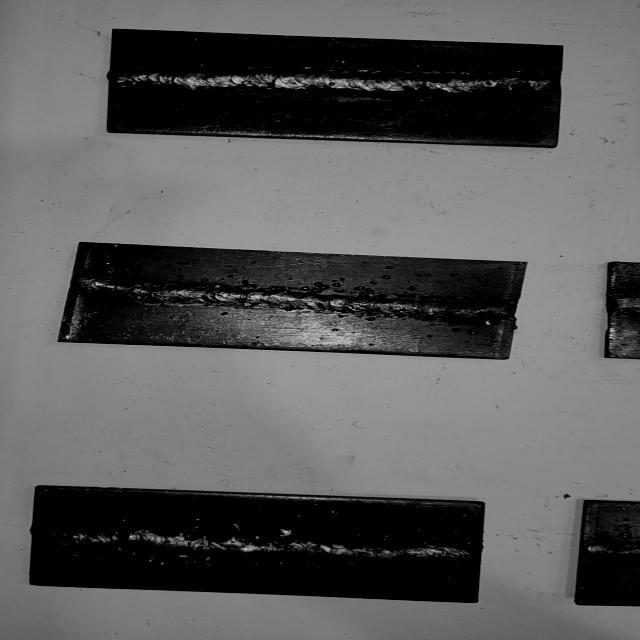Defect: (227, 516, 306, 544), (146, 541, 220, 570), (346, 270, 412, 302)
Welding Line: (74, 272, 512, 326), (36, 528, 473, 570), (110, 68, 562, 94)
Workpiece: (52, 240, 534, 362), (103, 26, 566, 151), (27, 482, 485, 606)
